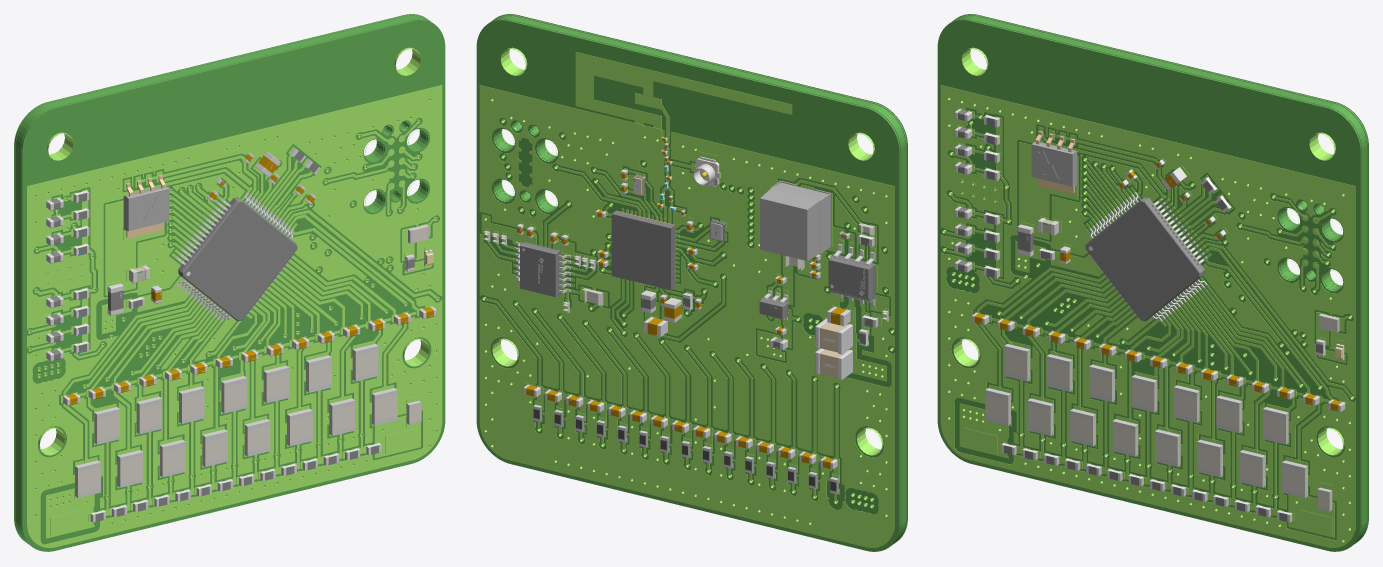
File: wireless-battery-management-system.glb
3 views of the same model, side by side, from view 1: azimuth 30°, elevation 25°; view 2: azimuth 150°, elevation 25°; view 3: azimuth 330°, elevation 25° (orthographic).
Parts seen in each view (by area): view 1: copper, core, mat_27, mat_26, mat_28, mat_21, mat_29, mat_30, mat_24, mat_19, solder_b, mat_20 (+1 smaller); view 2: copper, core, mat_28, mat_29, mat_19, mat_48, mat_30, mat_46, mat_42, mat_43, mat_41, solder_t (+3 smaller); view 3: copper, core, mat_27, mat_26, mat_28, mat_21, mat_29, mat_30, mat_24, mat_19, solder_b, mat_37 (+1 smaller).
Boxes of the visible parts, bbox=[...] form: copper: bbox=[27, 47, 442, 547]; core: bbox=[14, 14, 445, 551]; mat_27: bbox=[75, 225, 426, 493]; mat_26: bbox=[178, 197, 297, 321]; mat_28: bbox=[46, 148, 436, 522]; mat_21: bbox=[75, 224, 428, 497]; mat_29: bbox=[50, 151, 414, 521]; mat_30: bbox=[66, 154, 433, 405]; mat_24: bbox=[175, 192, 293, 321]; mat_19: bbox=[123, 186, 169, 230]; solder_b: bbox=[14, 14, 423, 538]; mat_20: bbox=[126, 175, 165, 238]; copper: bbox=[479, 47, 894, 547]; core: bbox=[476, 14, 907, 551]; mat_28: bbox=[517, 137, 874, 469]; mat_29: bbox=[520, 174, 875, 349]; mat_19: bbox=[760, 181, 830, 260]; mat_48: bbox=[611, 210, 675, 290]; mat_30: bbox=[517, 137, 846, 468]; mat_46: bbox=[819, 322, 847, 378]; mat_42: bbox=[533, 409, 836, 491]; mat_43: bbox=[533, 404, 838, 494]; mat_41: bbox=[533, 406, 838, 493]; solder_t: bbox=[498, 14, 907, 538]; copper: bbox=[940, 47, 1355, 547]; core: bbox=[937, 14, 1368, 551]; mat_27: bbox=[985, 314, 1336, 508]; mat_26: bbox=[1085, 197, 1204, 321]; mat_28: bbox=[954, 109, 1345, 522]; mat_21: bbox=[985, 313, 1339, 511]; mat_29: bbox=[958, 110, 1323, 521]; mat_30: bbox=[974, 162, 1341, 411]; mat_24: bbox=[1089, 192, 1207, 321]; mat_19: bbox=[1031, 142, 1077, 186]; solder_b: bbox=[959, 14, 1368, 538]; mat_37: bbox=[1002, 177, 1325, 514].
Size of the model in its own units: 5 by 5 by 0.7758.
